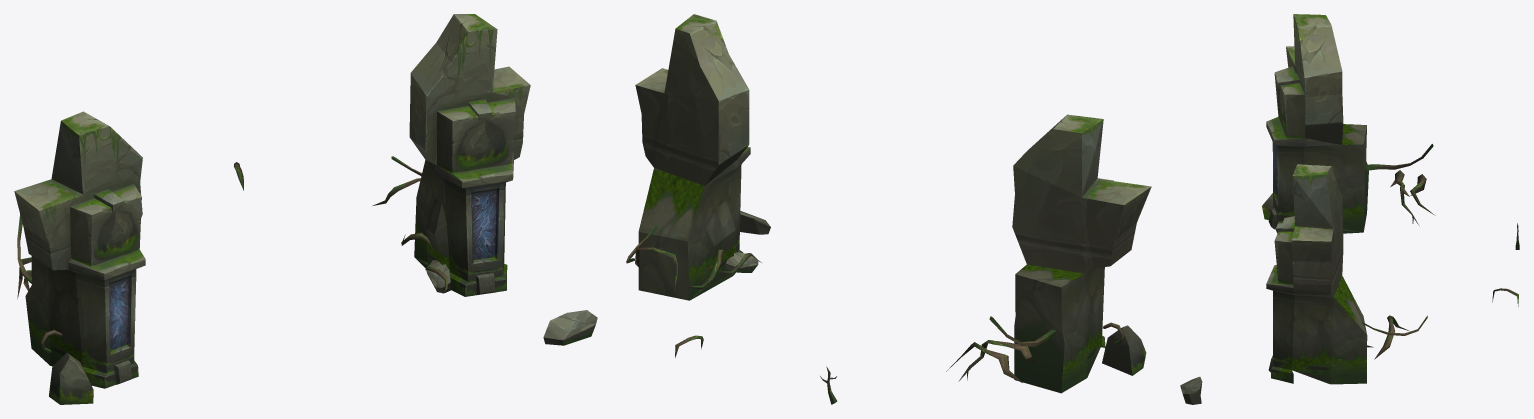
Rendered from fb_lyhg_zj_01_b.FBX.
3 renders of one model, left to right at view 1: azimuth 30°, elevation 25°; view 2: azimuth 150°, elevation 25°; view 3: azimuth 270°, elevation 25°, orthographic. The views are drawn at different scales.
Parts seen in each view (by area): view 1: fb_lyhg_zj_01_b; view 2: fb_lyhg_zj_01_b; view 3: fb_lyhg_zj_01_b.
Part boxes in pixels (box(x1,y1,x2,y2)): fb_lyhg_zj_01_b: box(14, 14, 597, 404); fb_lyhg_zj_01_b: box(626, 14, 1151, 404); fb_lyhg_zj_01_b: box(1180, 14, 1519, 404).
Bounding box in the file's own units: 3679 × 1894 × 2670.
